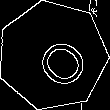O_NW: (19, 23, 87, 88)
